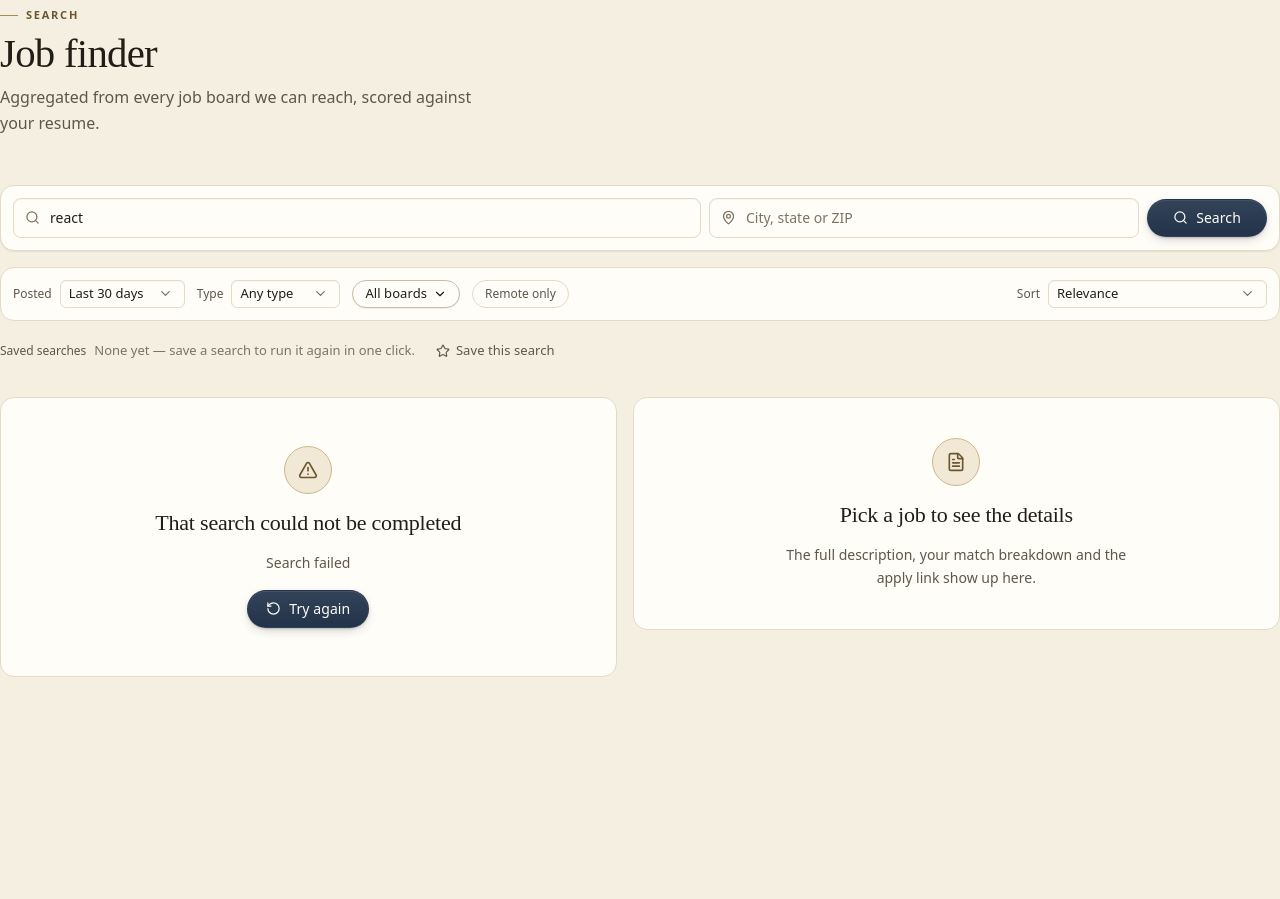
Test case: JobFinder empty and error states › shows the error state with a retry that searches again
Expected: the text "That search could not be completed" is shown, x1=155 y1=506 x2=461 y2=539
Click the button "Try again" at [308, 609], box x1=247 y1=590 x2=369 y2=628
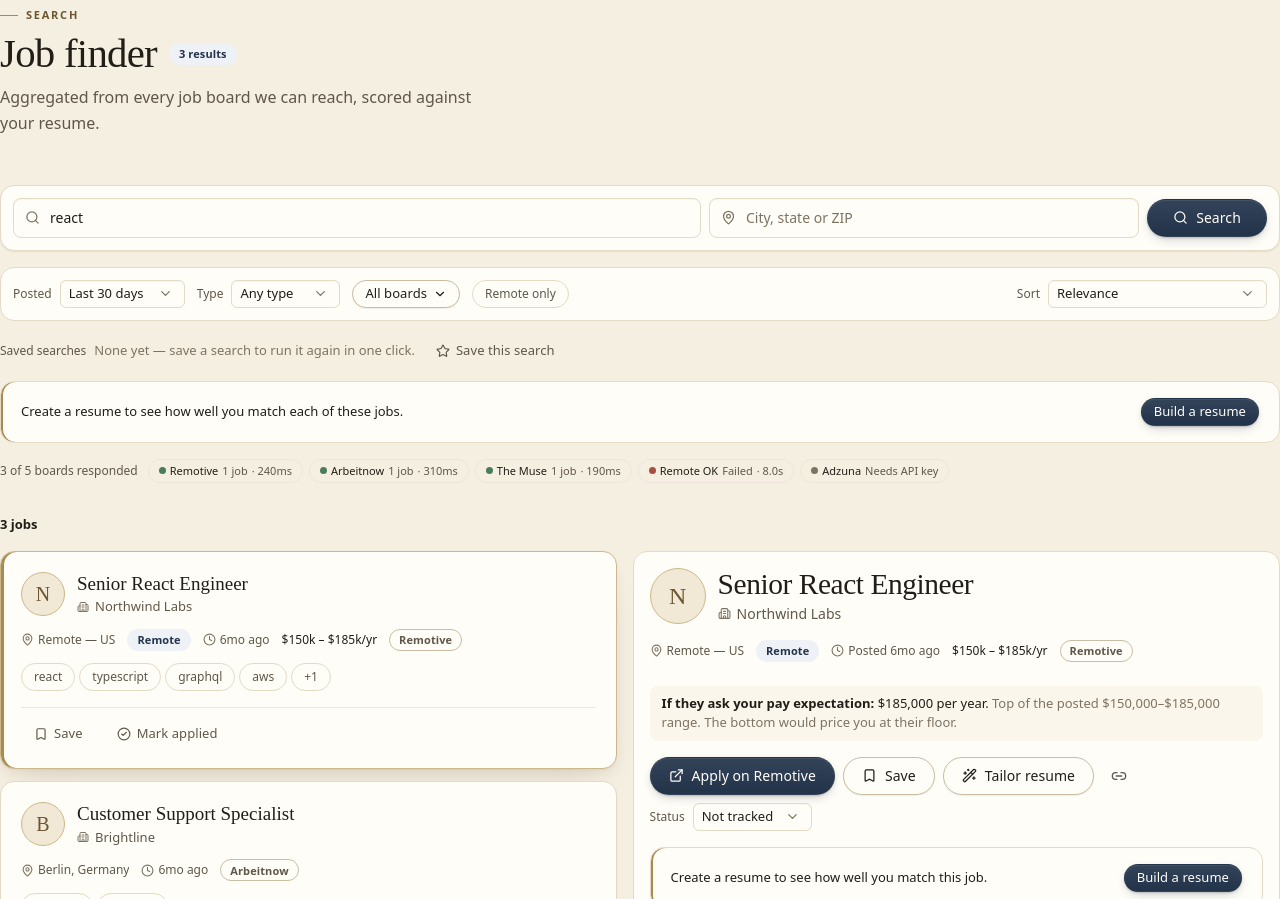
Result: the button "Senior React Engineer" is shown at x1=77 y1=572 x2=248 y2=595
